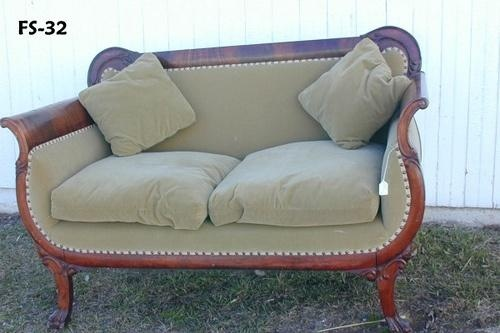sofa: (1, 26, 429, 333)
